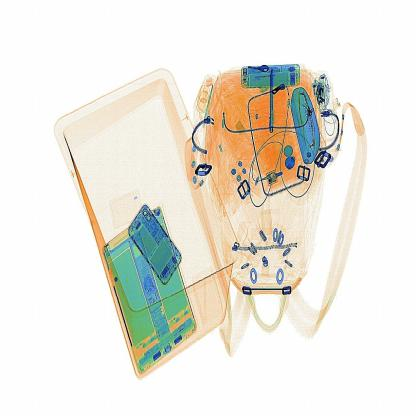pliers: (261, 57, 286, 144)
